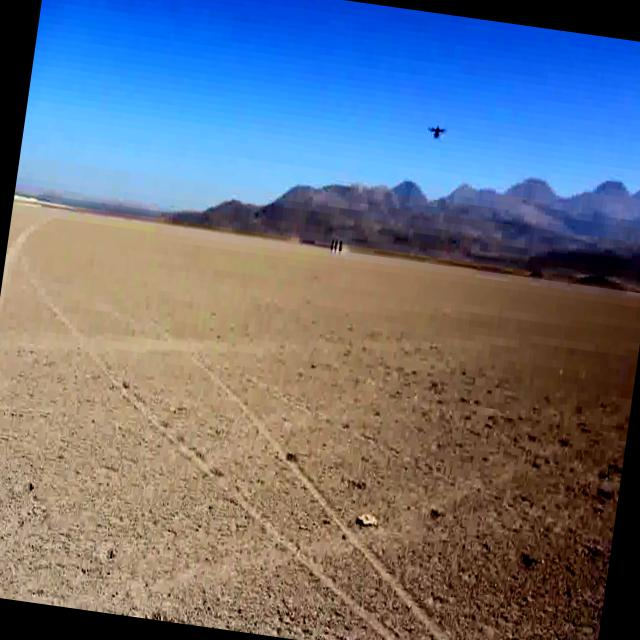drone: (425, 116, 450, 146)
